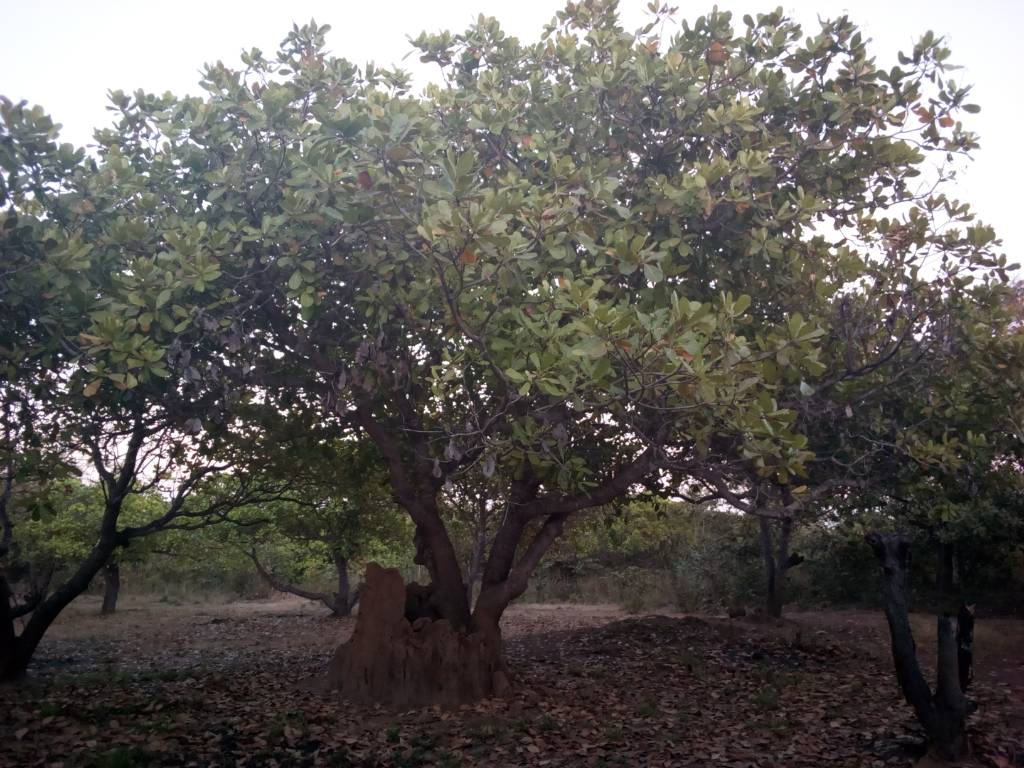Termites: (349, 565, 494, 705)
